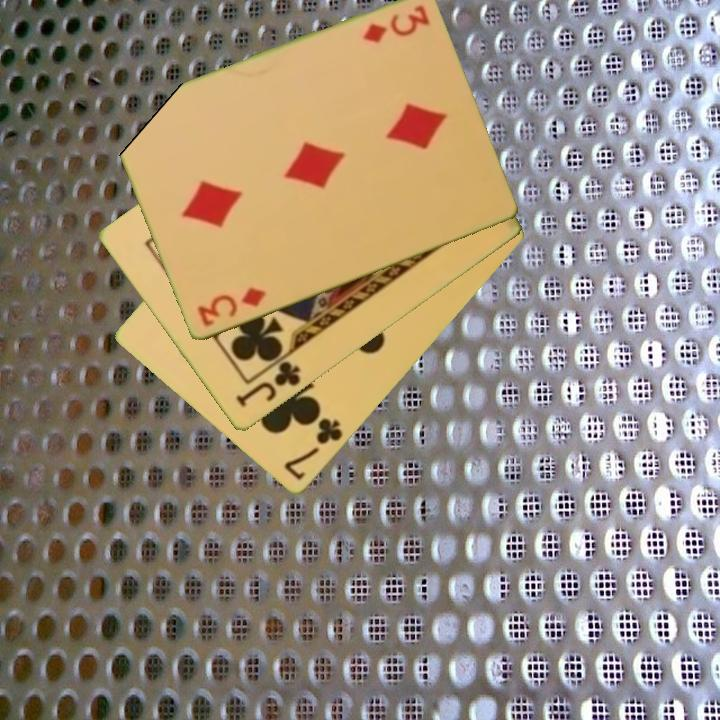3d: (193, 284, 269, 330), (358, 2, 432, 47)
7c: (280, 414, 346, 484)
Jc: (232, 357, 304, 411)
